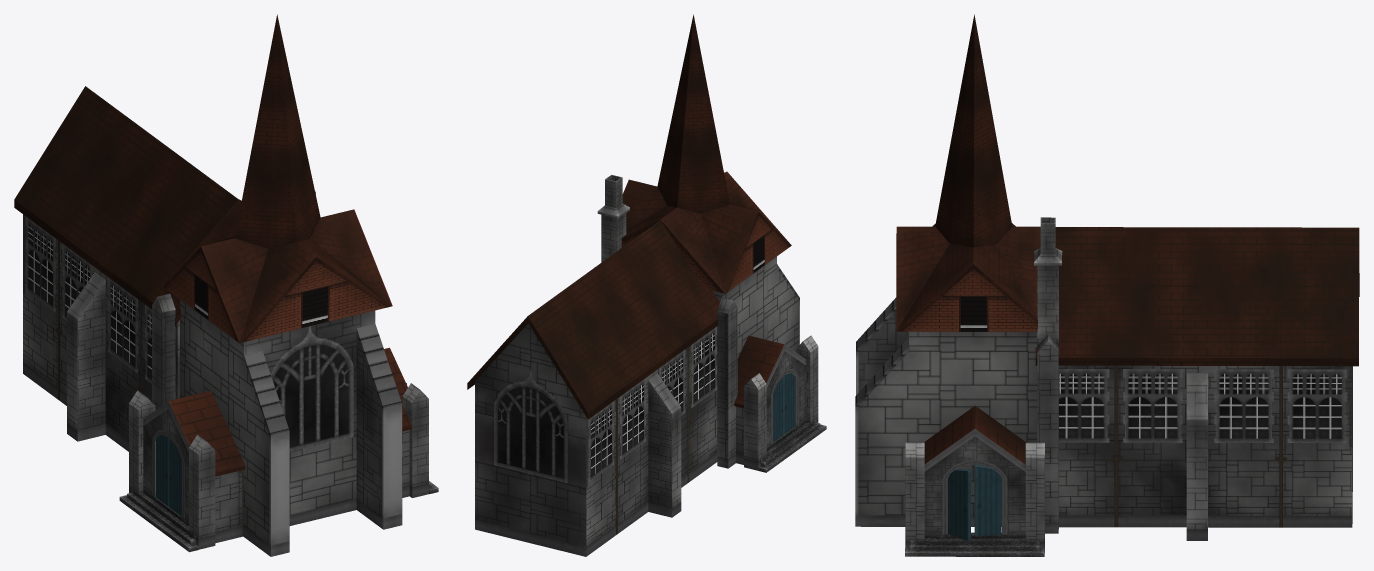
File: Texture test.fbx
3 views of the same model, side by side, from view 1: azimuth 30°, elevation 25°; view 2: azimuth 150°, elevation 25°; view 3: azimuth 270°, elevation 25° (orthographic). The views are drawn at different scales.
Visible parts, largest first — view 1: Spire.014; view 2: Spire.014; view 3: Spire.014.
Part boxes in pixels (left/top/right/bottom): Spire.014: left=14, top=14, right=438, bottom=556; Spire.014: left=467, top=14, right=826, bottom=556; Spire.014: left=855, top=14, right=1359, bottom=556.
Size of the model in its own units: 26.71 by 49.47 by 46.97.
